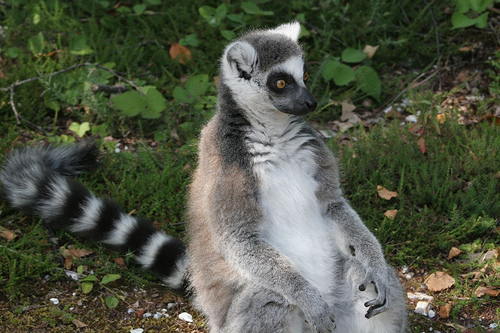cat: (4, 16, 414, 330)
